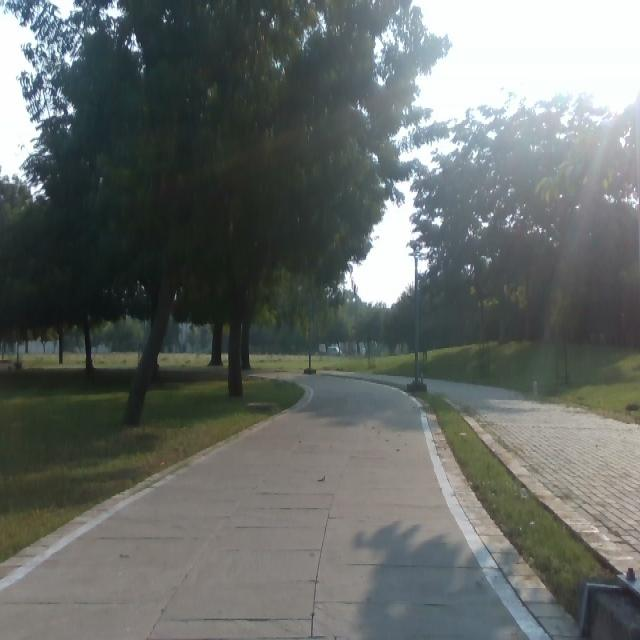lane: (0, 373, 524, 635)
